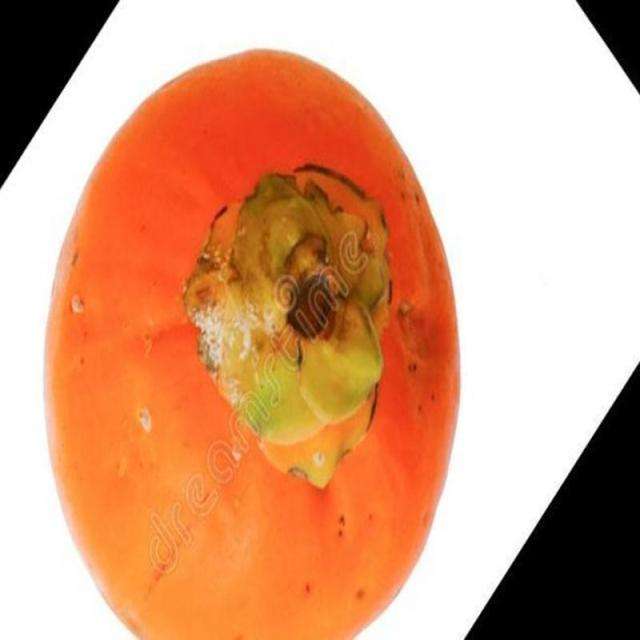good: (42, 49, 462, 639)
